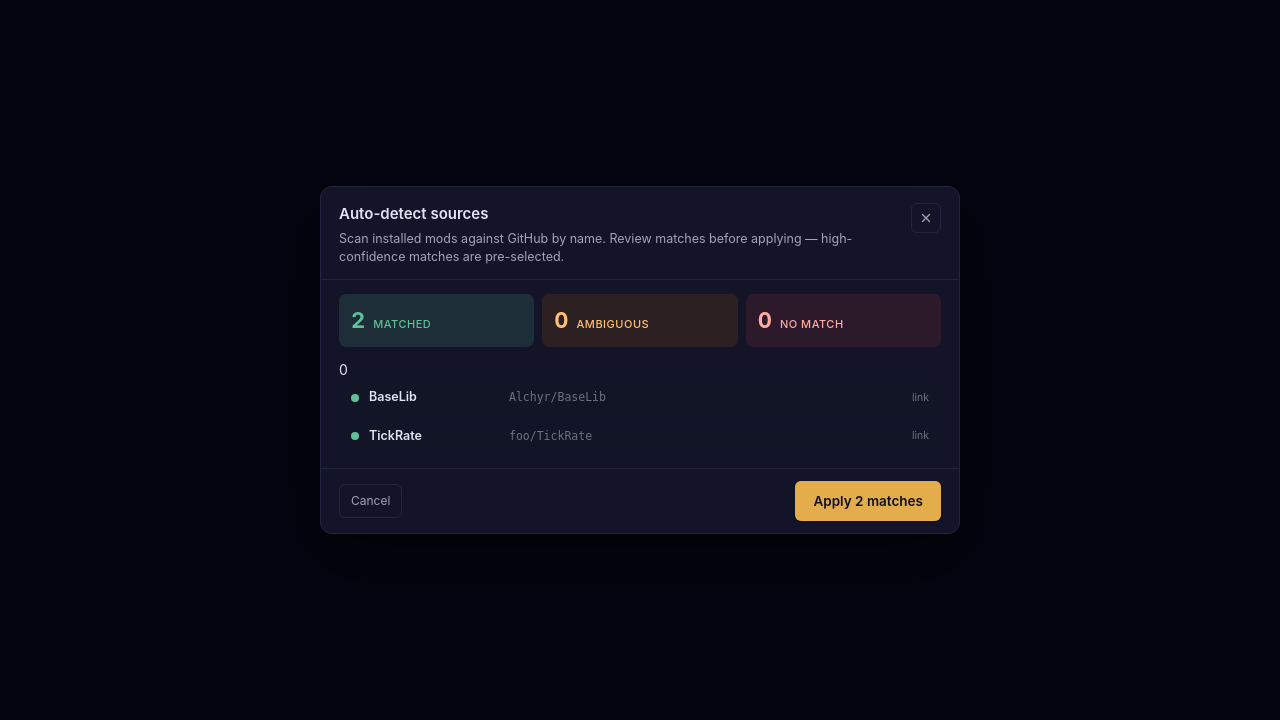
Test: <AutoDetectModal> › skip toggle on high-confidence rows › clicking a high-confidence row toggles its skip state and the apply count
The image size is (1280, 720).
Expected: the text "link" is shown 2 times, x1=912 y1=390 x2=929 y2=405; x1=912 y1=428 x2=929 y2=444
Expected: the button "Apply 2 matches" is shown, x1=796 y1=481 x2=941 y2=521
// First click skips BaseLib → one row flips to "skip", apply becomes "Apply 1 match"
Step 1. Click the text "BaseLib" → (393,397), box x1=369 y1=389 x2=417 y2=404
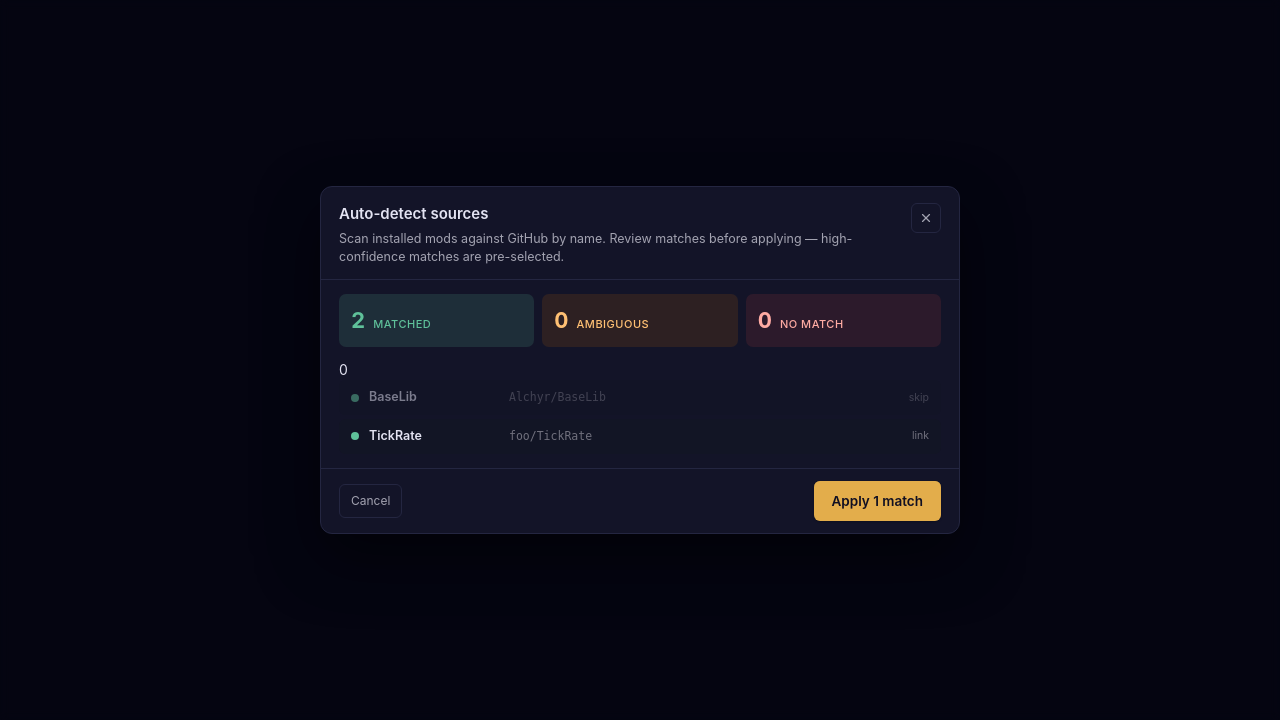
Expected: the text "skip" is shown, x1=909 y1=390 x2=929 y2=405
Expected: the button "Apply 1 match" is shown, x1=814 y1=481 x2=941 y2=521
// Second click un-skips BaseLib → back to "Apply 2 matches"
Step 2. Click the text "BaseLib" → (393,397), box x1=369 y1=389 x2=417 y2=404
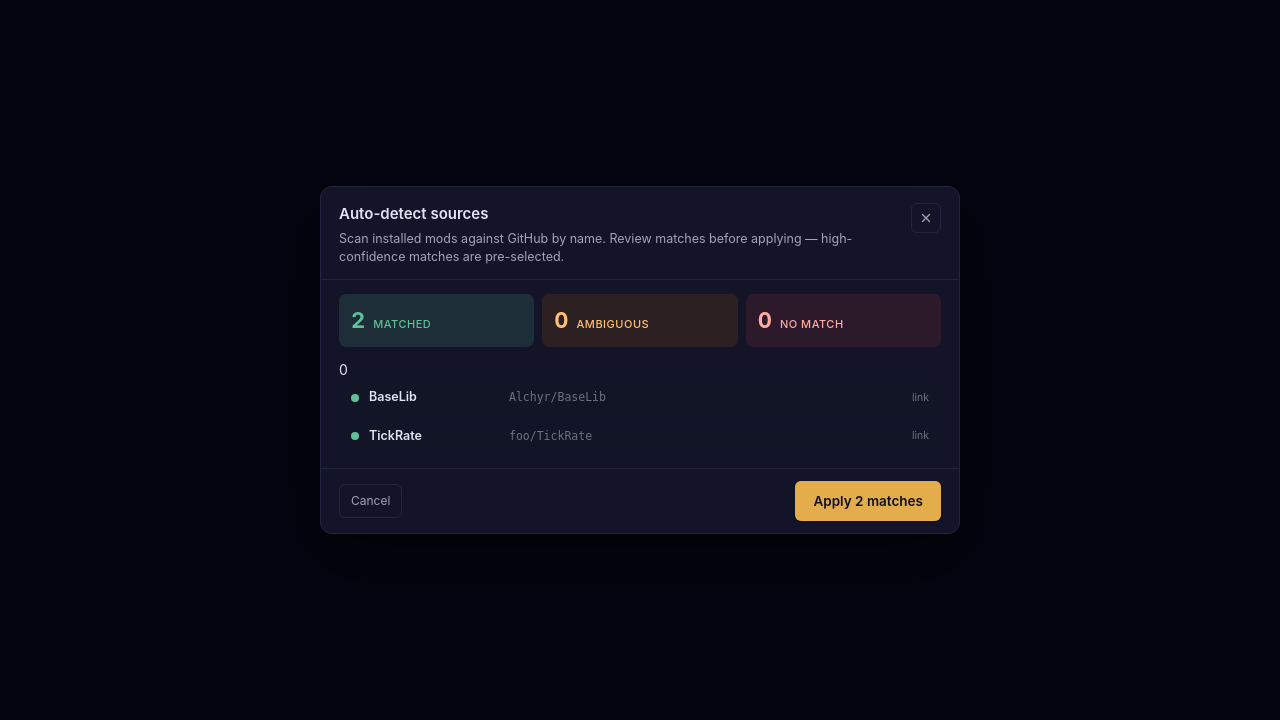
Expected: the text "skip" is gone
Expected: the button "Apply 2 matches" is shown, x1=796 y1=481 x2=941 y2=521
